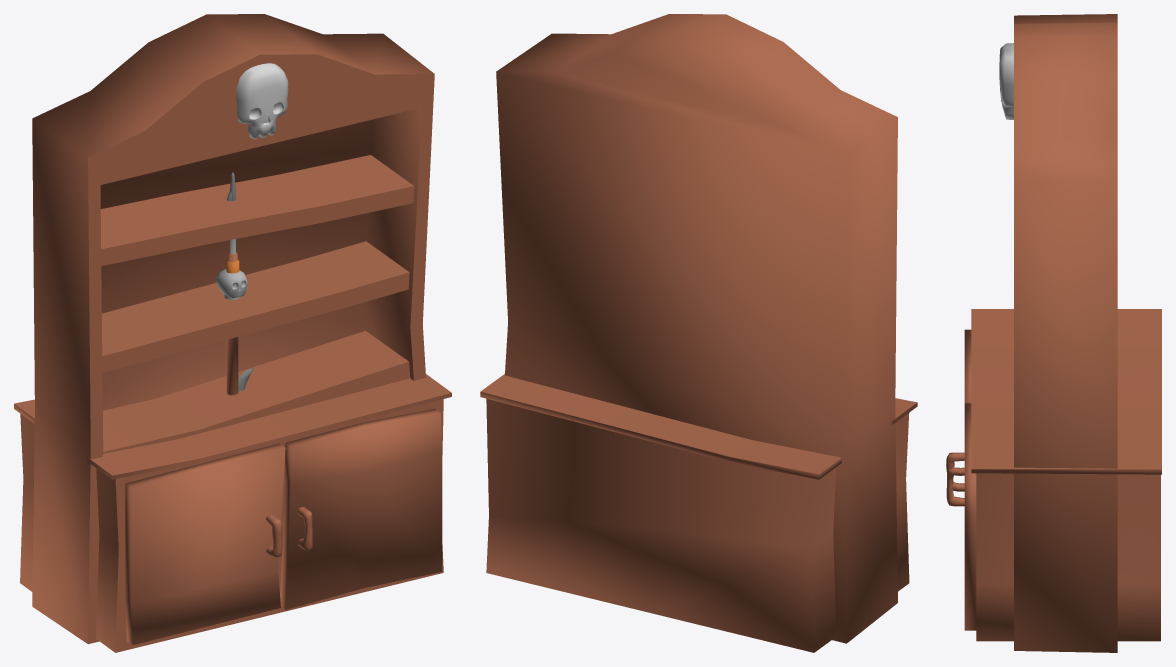
Rendered from Breder5_6.fbx.
3 views of the same model, side by side, from view 1: azimuth 30°, elevation 25°; view 2: azimuth 150°, elevation 25°; view 3: azimuth 270°, elevation 25° (orthographic). The views are drawn at different scales.
Visible parts, largest first — view 1: Prateleira, Armario.Cozinha.Porta.R, Armario.Cozinha.Porta.L, Armario.Cozinha, Esfregao; view 2: Prateleira, Armario.Cozinha; view 3: Prateleira, Armario.Cozinha, Armario.Cozinha.Porta.R, Armario.Cozinha.Porta.L.
Boxes of the visible parts, x1=… form: Prateleira: x1=32, y1=14, x2=434, y2=644; Armario.Cozinha.Porta.R: x1=280, y1=408, x2=442, y2=609; Armario.Cozinha.Porta.L: x1=125, y1=443, x2=285, y2=644; Armario.Cozinha: x1=14, y1=374, x2=451, y2=652; Esfregao: x1=216, y1=269, x2=247, y2=395; Prateleira: x1=496, y1=14, x2=897, y2=643; Armario.Cozinha: x1=480, y1=374, x2=917, y2=652; Prateleira: x1=999, y1=14, x2=1117, y2=652; Armario.Cozinha: x1=971, y1=309, x2=1161, y2=641; Armario.Cozinha.Porta.R: x1=946, y1=403, x2=976, y2=630; Armario.Cozinha.Porta.L: x1=946, y1=329, x2=971, y2=491.
Size of the model in its own units: 187 by 289 by 102.
